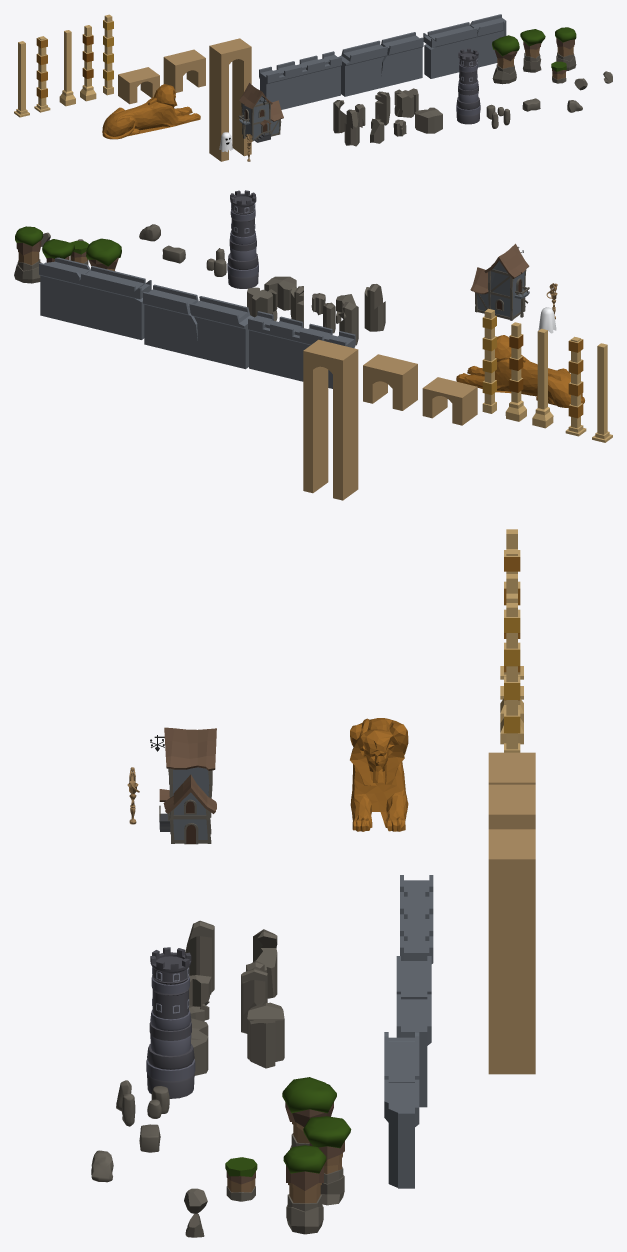
Rendered from MemyGowna.fbx.
3 views of the same model, one above another, from view 1: azimuth 30°, elevation 25°; view 2: azimuth 150°, elevation 25°; view 3: azimuth 270°, elevation 25° (orthographic). The views are drawn at different scales.
Parts seen in each view (by area): view 1: SM_Dungeon_Arch_Bridge_JFG_3, Cube.033, Cube.059, Cube.030, SphinxCrystalPalacePark02, Fantasy_House_6, Cube.003, SM_Dungeon_Arch_Bridge_JFG_2, SM_Dungeon_Arch_Bridge_JFG_1, Cube.056, SM_Dungeon_Distance_Prop_JFG_2, SM_Dungeon_Distance_Prop_JFG_4 (+13 smaller); view 2: SM_Dungeon_Arch_Bridge_JFG_3, Cube.030, Cube.033, Cube.059, Fantasy_House_6, SphinxCrystalPalacePark02, Cube.003, SM_Dungeon_Arch_Bridge_JFG_2, SM_Dungeon_Arch_Bridge_JFG_1, Cube.032, SM_Dungeon_Distance_Prop_JFG_5, SM_Dungeon_Distance_Prop_JFG_4 (+10 smaller); view 3: SM_Dungeon_Arch_Bridge_JFG_3, Cube.003, Fantasy_House_6, SphinxCrystalPalacePark02, Cube.030, Cube.033, Cube.032, Cube.059, Cube.050, SM_Dungeon_Distance_Prop_JFG_5, Cube.056, Cube.023 (+6 smaller).
Part boxes in pixels (x1,y1,x2,y2): SM_Dungeon_Arch_Bridge_JFG_3: (209,38,251,161); Cube.033: (338,32,423,96); Cube.059: (259,51,341,109); Cube.030: (423,14,506,78); SphinxCrystalPalacePark02: (102,84,200,139); Fantasy_House_6: (238,83,283,142); Cube.003: (456,48,480,124); SM_Dungeon_Arch_Bridge_JFG_2: (163,49,205,92); SM_Dungeon_Arch_Bridge_JFG_1: (118,67,159,104); Cube.056: (492,35,519,84); SM_Dungeon_Distance_Prop_JFG_2: (34,36,50,112); SM_Dungeon_Distance_Prop_JFG_4: (80,25,96,101); SM_Dungeon_Arch_Bridge_JFG_3: (303,339,358,500); Cube.030: (39,257,151,339); Cube.033: (143,284,254,369); Cube.059: (248,311,355,388); Fantasy_House_6: (470,243,529,320); SphinxCrystalPalacePark02: (456,335,584,407); Cube.003: (227,190,258,288); SM_Dungeon_Arch_Bridge_JFG_2: (363,354,417,410); SM_Dungeon_Arch_Bridge_JFG_1: (422,377,477,425); Cube.032: (14,226,43,283); SM_Dungeon_Distance_Prop_JFG_5: (482,308,496,413); SM_Dungeon_Distance_Prop_JFG_4: (505,322,526,421); SM_Dungeon_Arch_Bridge_JFG_3: (488,829,535,1074); Cube.003: (146,947,195,1098); Fantasy_House_6: (150,727,216,844); SphinxCrystalPalacePark02: (350,718,408,831); Cube.030: (384,1032,419,1188); Cube.033: (396,956,431,1107); Cube.032: (283,1145,326,1234); Cube.059: (400,875,433,963); Cube.050: (303,1116,351,1205); SM_Dungeon_Distance_Prop_JFG_5: (504,603,520,752); Cube.056: (282,1077,336,1148); Cube.023: (247,1002,284,1068).
Size of the model in its own units: 101 by 31.45 by 37.82.
